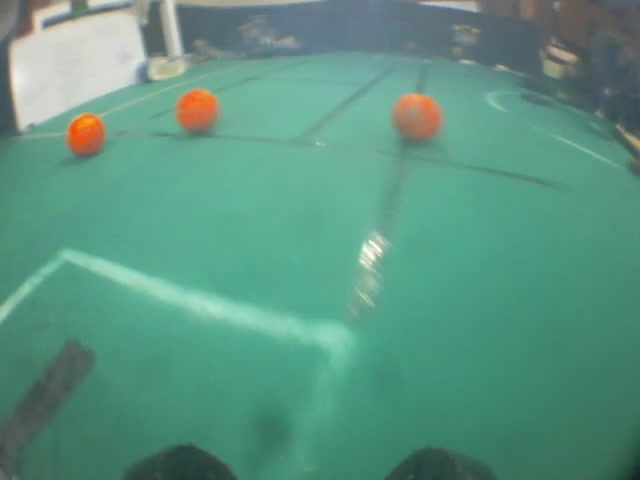ball: (388, 86, 446, 142), (170, 84, 222, 139), (61, 111, 110, 161)
